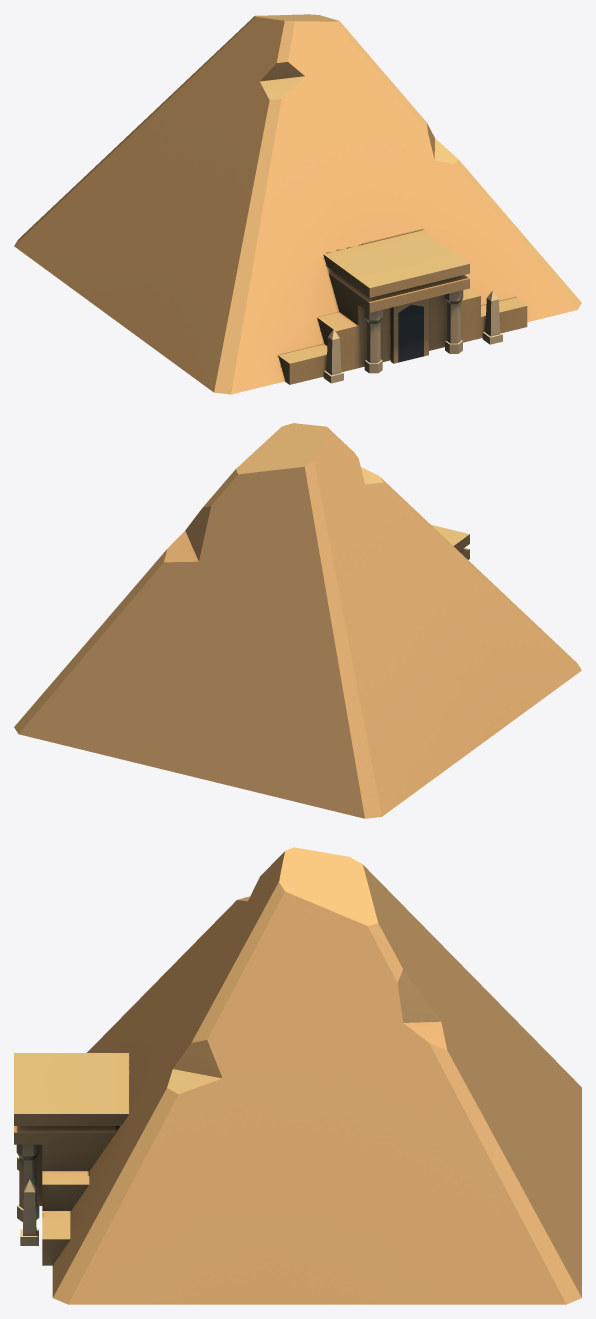
File: M_Pyramid_PreviewMesh.fbx
3 views of the same model, one above another, from view 1: azimuth 30°, elevation 25°; view 2: azimuth 150°, elevation 25°; view 3: azimuth 270°, elevation 25° (orthographic). The views are drawn at different scales.
Visible parts, largest first — view 1: PUSHILIN_pyramid_Mesh; view 2: PUSHILIN_pyramid_Mesh; view 3: PUSHILIN_pyramid_Mesh.
Boxes of the visible parts, bbox=[...] form: PUSHILIN_pyramid_Mesh: bbox=[14, 14, 581, 394]; PUSHILIN_pyramid_Mesh: bbox=[14, 423, 581, 818]; PUSHILIN_pyramid_Mesh: bbox=[14, 847, 581, 1304].
Size of the model in its own units: 389 by 272 by 418.
1 material, 1 textured.
